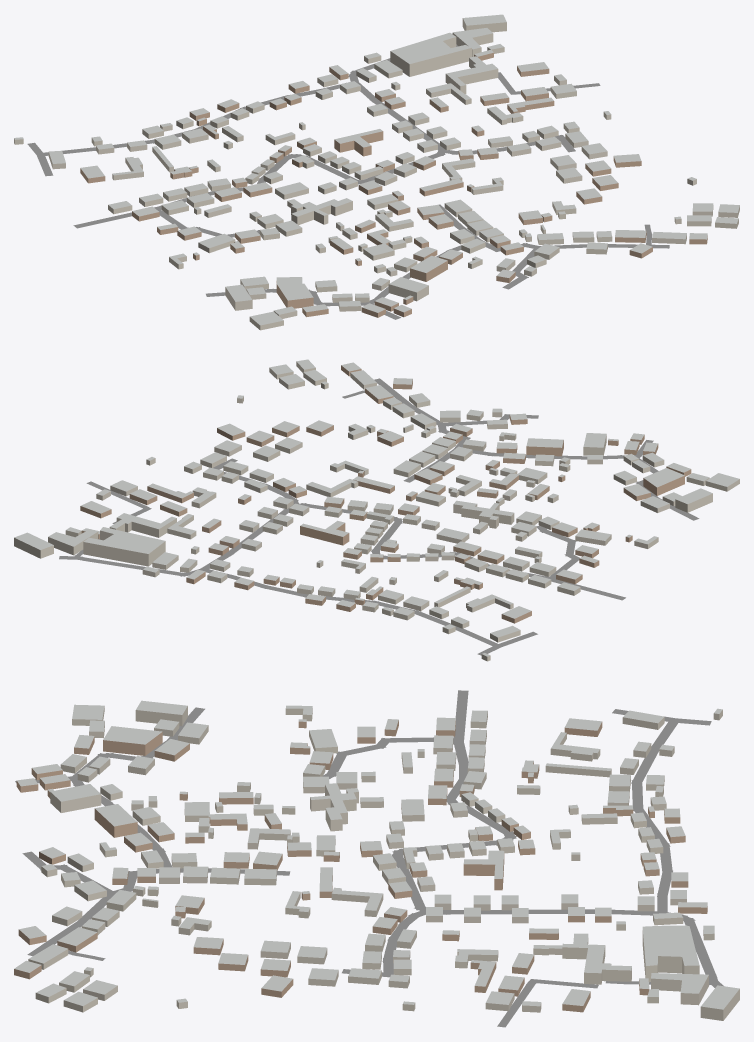
The model's file is bolak_5_-10.glb.
The picture shows the model from 3 angles, top to bottom: view 1: azimuth 30°, elevation 25°; view 2: azimuth 150°, elevation 25°; view 3: azimuth 270°, elevation 25°; orthographic projection. The views are drawn at different scales.
Visible parts, largest first — view 1: Tom_Shifer, Devor_Suvoq-col, Devor_Gisht-col, Yol_Mahalla; view 2: Tom_Shifer, Devor_Suvoq-col, Devor_Gisht-col, Yol_Mahalla; view 3: Tom_Shifer, Devor_Suvoq-col, Devor_Gisht-col, Yol_Mahalla.
Boxes of the visible parts, x1=… form: Tom_Shifer: x1=14, y1=14, x2=739, y2=325; Devor_Suvoq-col: x1=14, y1=18, x2=739, y2=330; Devor_Gisht-col: x1=80, y1=52, x2=707, y2=317; Yol_Mahalla: x1=27, y1=33, x2=669, y2=319; Tom_Shifer: x1=14, y1=359, x2=739, y2=656; Devor_Suvoq-col: x1=14, y1=361, x2=739, y2=661; Devor_Gisht-col: x1=80, y1=365, x2=691, y2=623; Yol_Mahalla: x1=59, y1=378, x2=699, y2=655; Tom_Shifer: x1=14, y1=700, x2=739, y2=1009; Devor_Suvoq-col: x1=28, y1=706, x2=739, y2=1020; Devor_Gisht-col: x1=14, y1=720, x2=707, y2=1012; Yol_Mahalla: x1=15, y1=690, x2=723, y2=1027.
Size of the model in its own units: 457 by 10.4 by 416.
